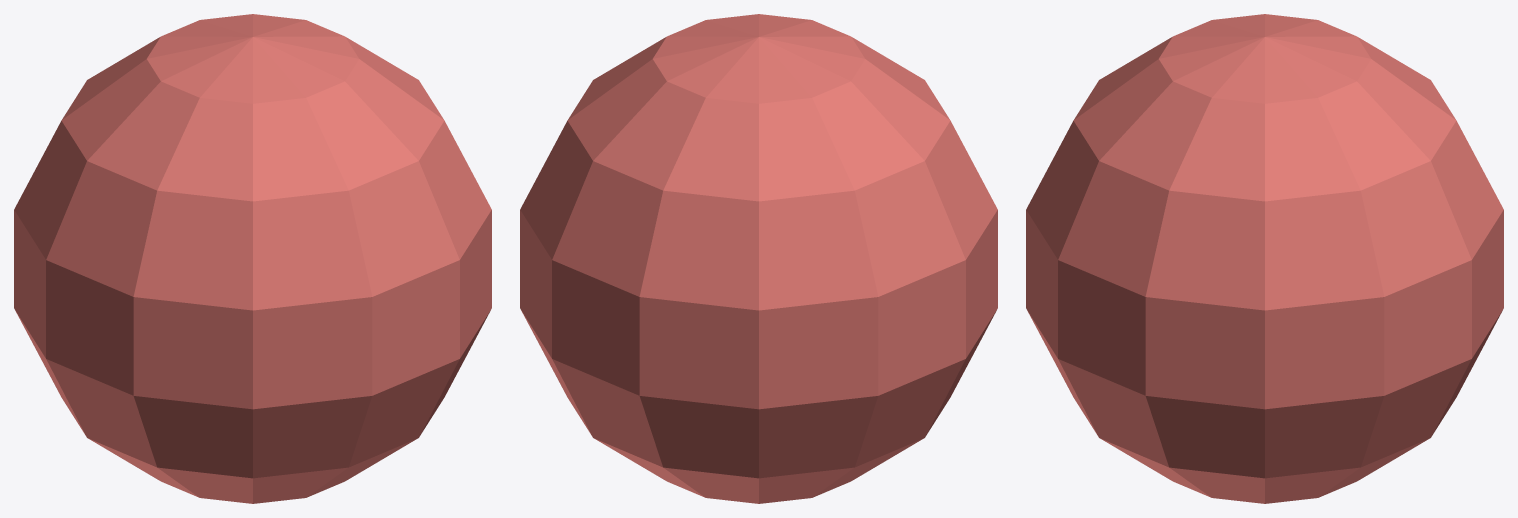
File: rebotar.glb
3 views of the same model, side by side, from view 1: azimuth 30°, elevation 25°; view 2: azimuth 150°, elevation 25°; view 3: azimuth 270°, elevation 25° (orthographic).
Visible parts, largest first — view 1: pelota; view 2: pelota; view 3: pelota.
Boxes of the visible parts, x1,y1,x2,y2 form: pelota: (14, 14, 491, 503); pelota: (520, 14, 997, 503); pelota: (1026, 14, 1503, 503).
Bounding box in the file's own units: 0.6824 × 0.7 × 0.6824.
